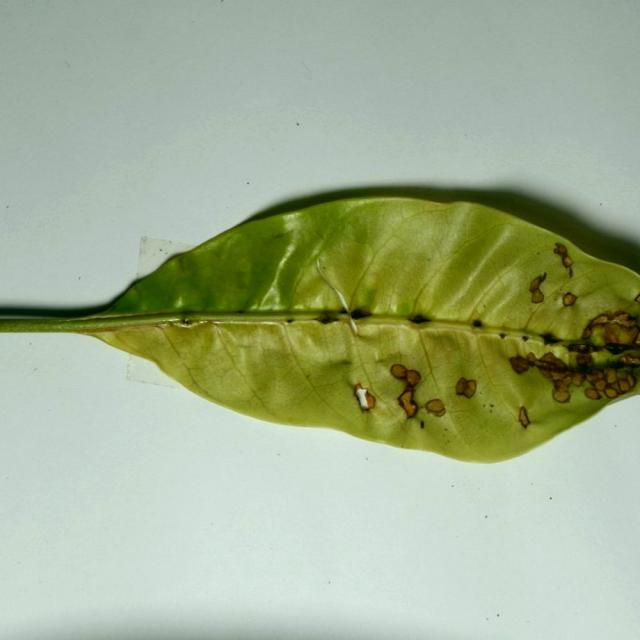Anthracnose: (583, 311, 639, 346), (579, 369, 606, 408), (351, 383, 378, 415), (585, 373, 614, 399), (555, 244, 574, 280), (353, 382, 374, 412), (539, 353, 568, 372), (455, 377, 477, 398), (607, 380, 631, 398), (509, 355, 530, 374), (424, 399, 446, 417), (614, 368, 632, 388), (589, 314, 610, 329), (401, 399, 416, 419), (555, 372, 573, 388), (390, 363, 408, 378), (518, 407, 530, 429), (553, 388, 570, 403), (586, 371, 604, 385), (538, 366, 556, 380), (612, 311, 633, 323), (619, 353, 640, 365), (575, 352, 592, 366), (603, 367, 618, 382), (581, 325, 596, 340), (553, 244, 569, 258), (562, 292, 577, 306), (570, 343, 591, 353), (314, 314, 335, 324), (407, 369, 421, 383), (531, 289, 544, 304), (529, 280, 542, 293), (594, 378, 607, 391), (604, 386, 618, 398), (584, 387, 597, 399), (572, 372, 585, 384), (526, 352, 538, 364), (626, 372, 635, 388), (562, 255, 573, 268), (629, 355, 640, 366), (637, 292, 640, 303)
Mango: (0, 184, 639, 467)
